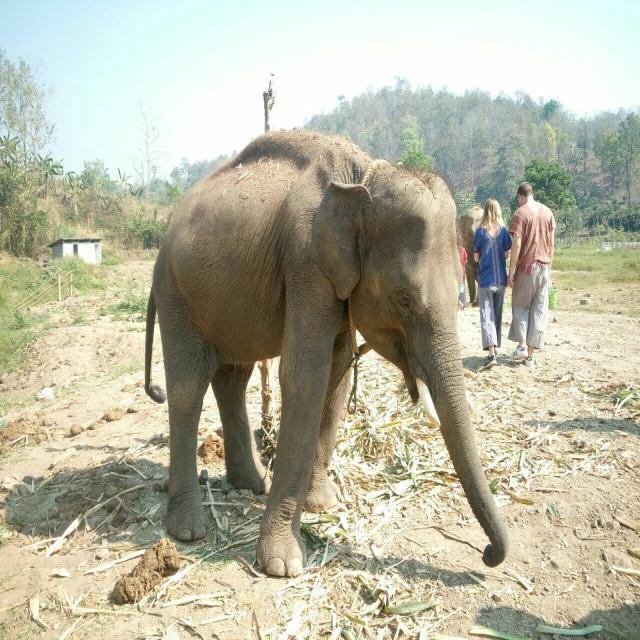Elephant: (138, 119, 512, 587)
